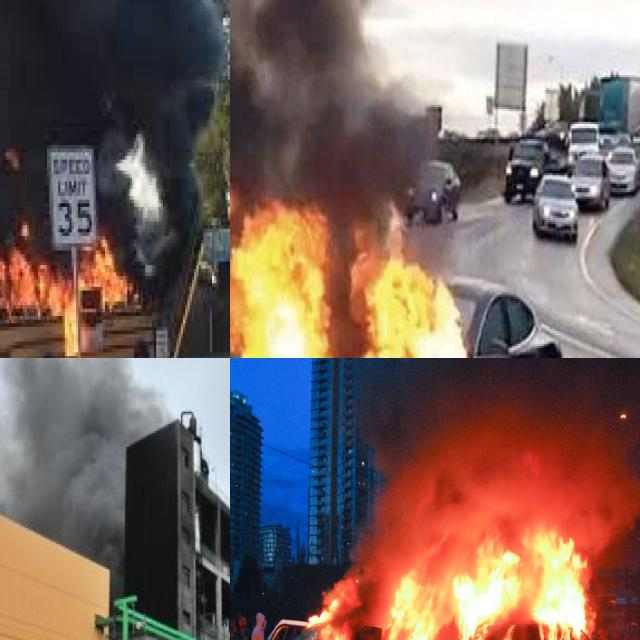fire: (230, 172, 481, 358), (309, 529, 604, 640), (0, 181, 162, 326)
smoke: (338, 358, 640, 580), (0, 0, 218, 254), (230, 0, 425, 271), (0, 358, 170, 567)
